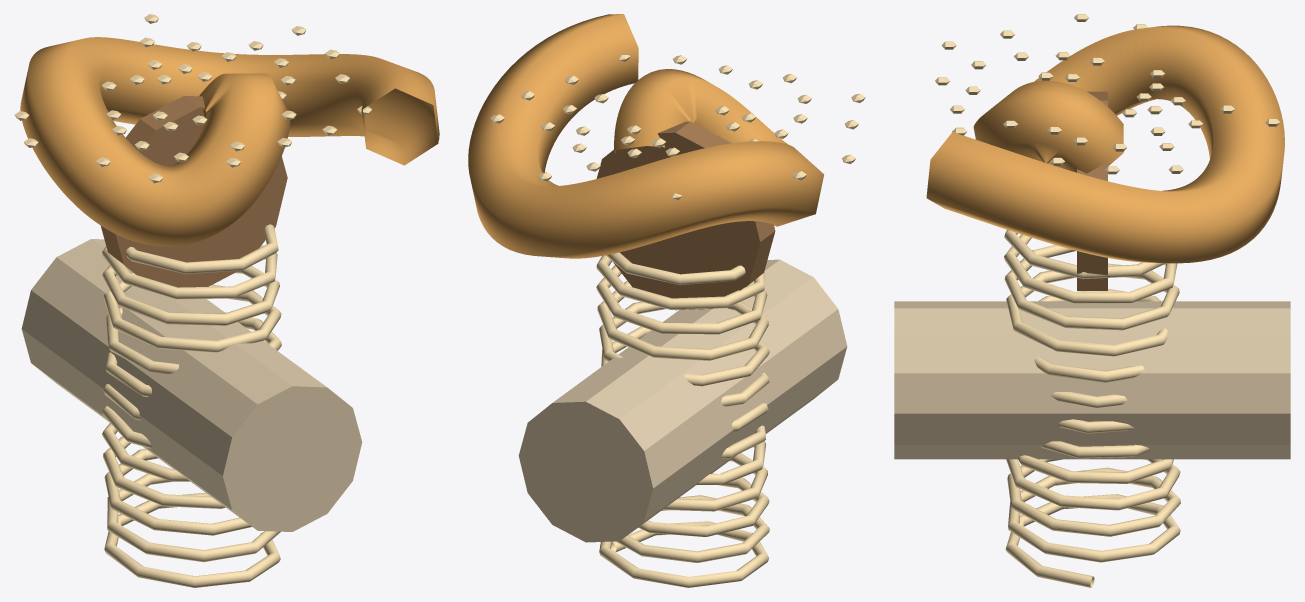
The model's file is churus_plataformas_r4.glb.
3 renders of one model, left to right at view 1: azimuth 30°, elevation 25°; view 2: azimuth 150°, elevation 25°; view 3: azimuth 270°, elevation 25°, orthographic. The views are drawn at different scales.
Visible parts, largest first — view 1: Modelo; view 2: Modelo; view 3: Modelo.
Part boxes in pixels (<box>): Modelo: <box>14,14,439,587</box>; Modelo: <box>468,14,865,587</box>; Modelo: <box>894,14,1290,587</box>.
Bounding box in the file's own units: 2.47 × 3.1 × 2.3.
